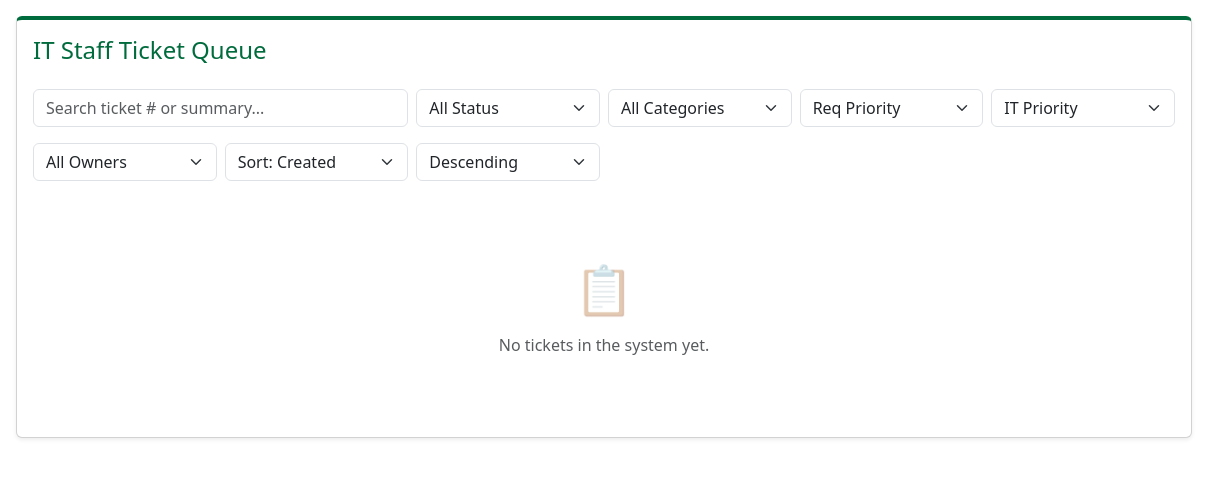
StaffTicketQueue Component › should show no-results state with clear filters button when filters are active but no results
This screenshot has width=1209, height=488.
expect the element with test id "queue-empty-state" is shown: met, box [499, 256, 709, 356]
# Type something in search to activate filters
Type "nonexistent" into the field with test id "queue-search" at (221, 108), box [33, 89, 408, 127]
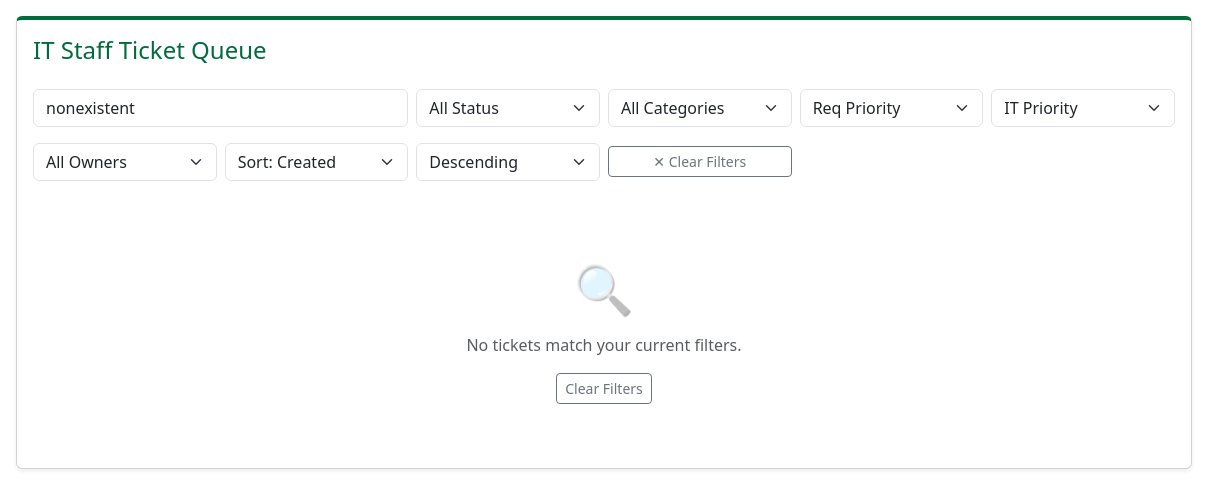
expect the element with test id "queue-no-results" is shown: met, box [466, 256, 742, 404]
expect the text "No tickets match your current filters." is shown: met, box [466, 334, 742, 356]
expect the button with test id "queue-no-results-clear" is shown: met, box [556, 373, 652, 404]
